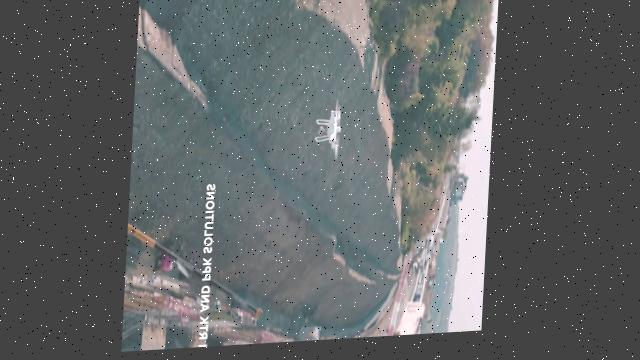drone: (314, 102, 346, 165)
